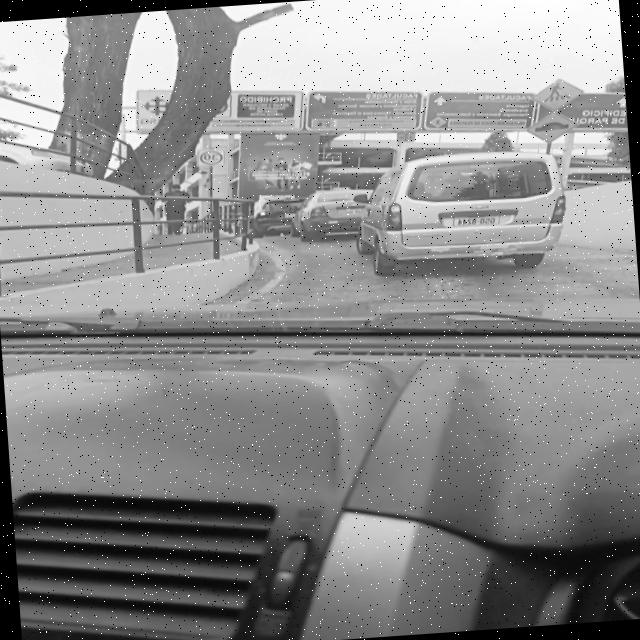Placa: (453, 215, 499, 224)
